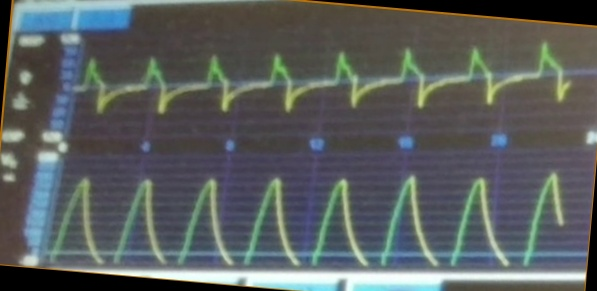Accumulation Flow: (83, 34, 574, 136)
Volume: (61, 161, 566, 268)
